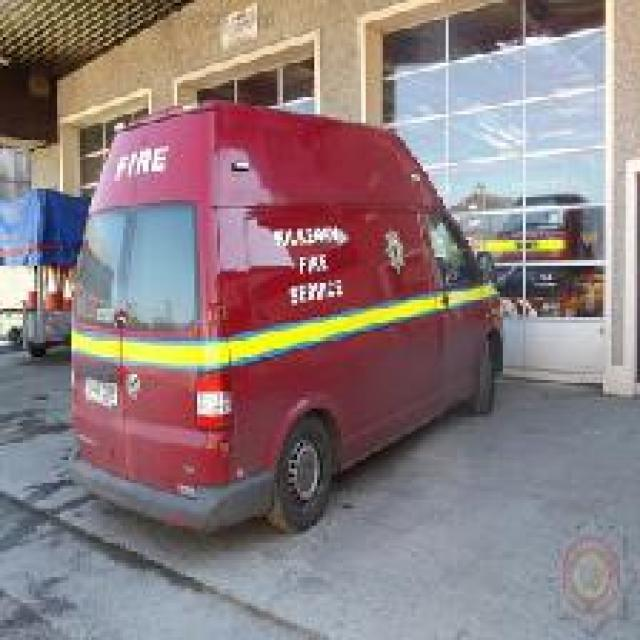emergency: (64, 99, 504, 539)
